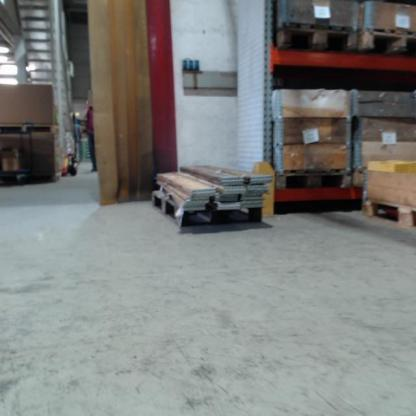pallet: (149, 189, 264, 228), (272, 24, 358, 51), (360, 196, 416, 237), (272, 167, 352, 190), (359, 27, 416, 57), (0, 120, 62, 137)
pallet_truck: (62, 110, 80, 179)
